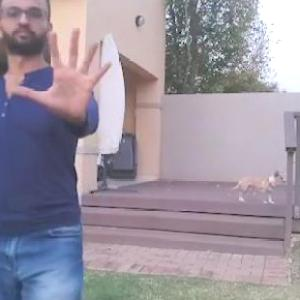follow_hand: (9, 21, 116, 127)
